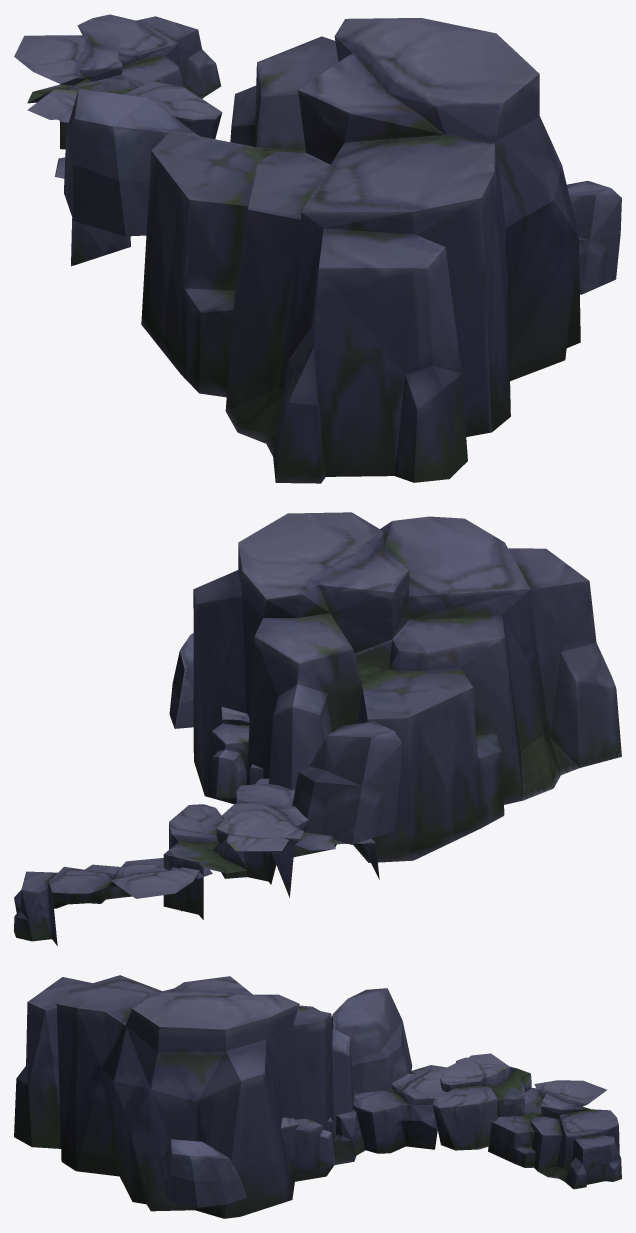
Rendered from Area06_16.fbx.
The picture shows the model from 3 angles, top to bottom: view 1: azimuth 30°, elevation 25°; view 2: azimuth 150°, elevation 25°; view 3: azimuth 270°, elevation 25°; orthographic projection. The views are drawn at different scales.
Parts seen in each view (by area): view 1: Area06_16; view 2: Area06_16; view 3: Area06_16.
Boxes of the visible parts, left/top/right/bottom form: Area06_16: left=14, top=14, right=621, bottom=483; Area06_16: left=14, top=512, right=621, bottom=945; Area06_16: left=14, top=975, right=621, bottom=1218.
Size of the model in its own units: 3681 by 2166 by 6872.
